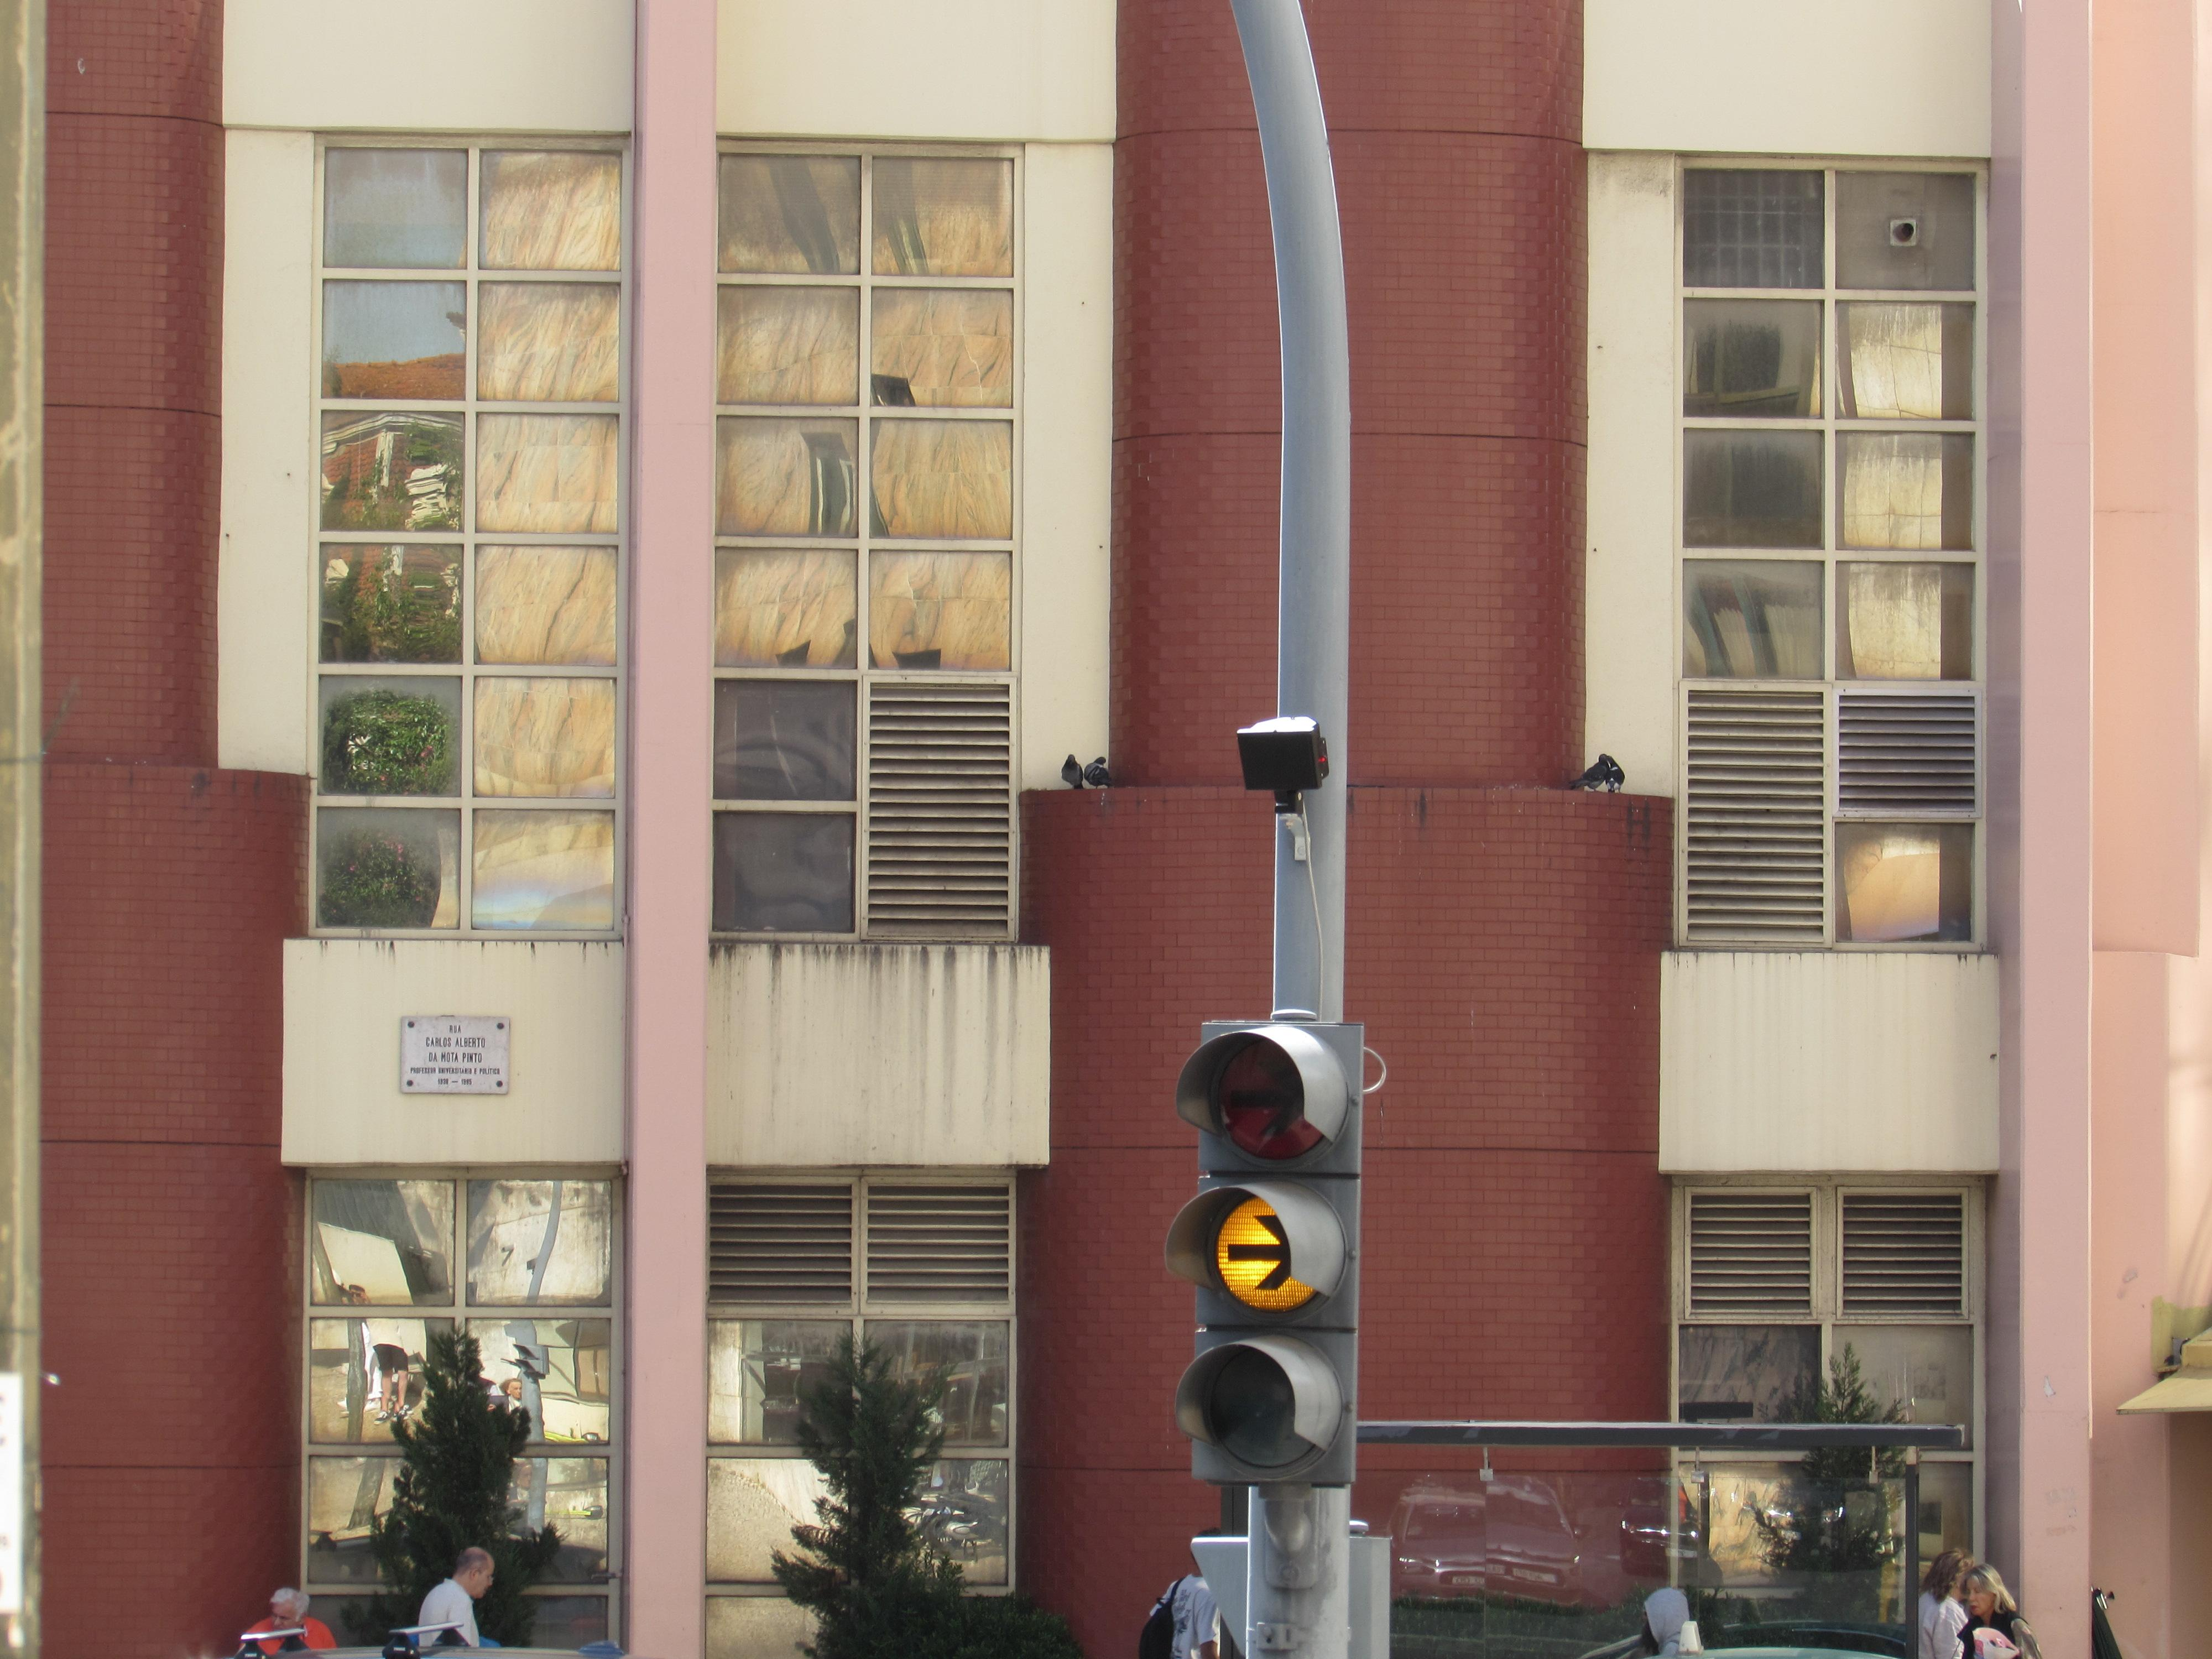yellow_light: (1167, 1021, 1364, 1486)
